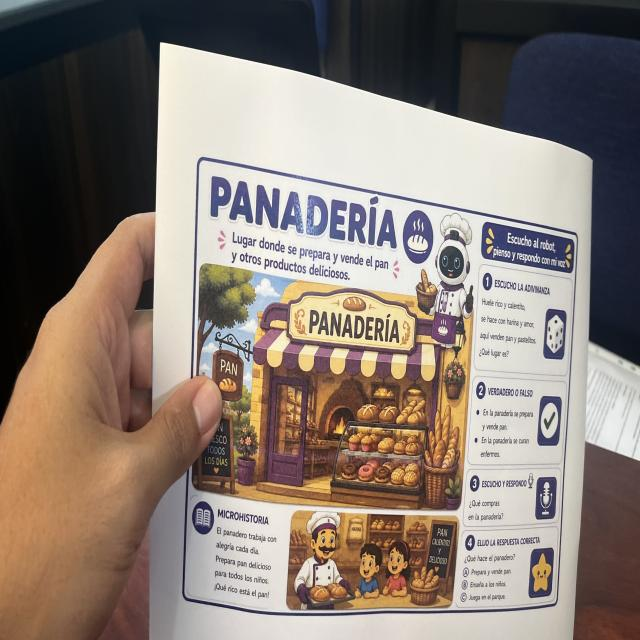panaderia: (178, 151, 582, 622)
